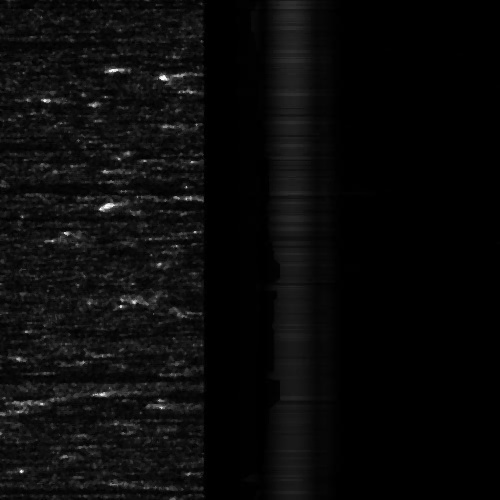object: (8, 94, 71, 99)
shadow: (0, 30, 100, 47), (0, 134, 75, 147), (0, 143, 121, 150), (39, 94, 132, 99), (0, 187, 101, 190)
